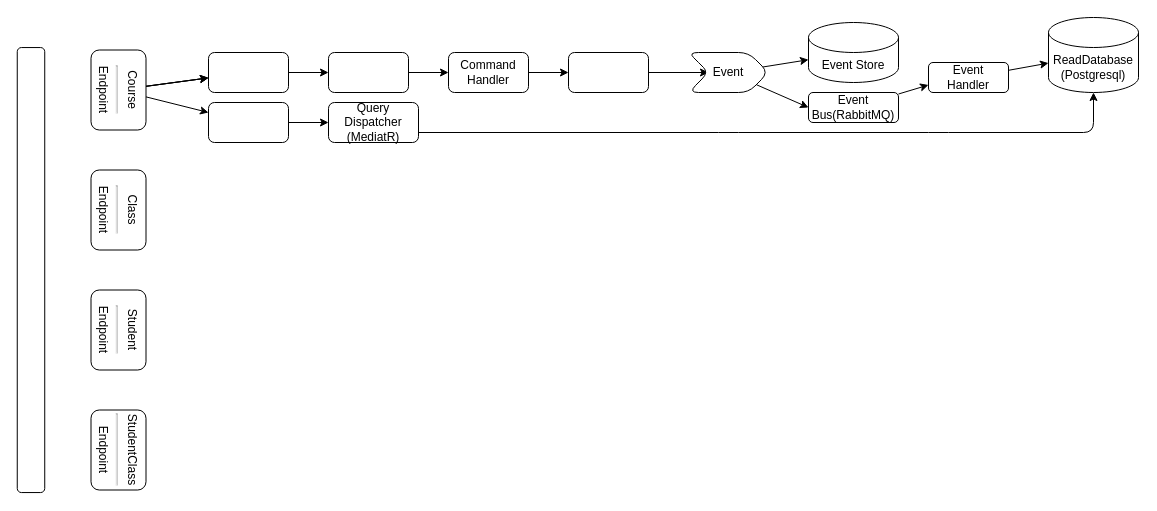
The diagram is 1157 pixels wide and 511 high, and some of its shapes have lost their labels. Each missing label, with the centre of its shape:
"Command" goes at point (248, 72).
"Command Bus(Redis)" goes at point (368, 72).
"Domain Model" goes at point (608, 72).
"Gateway" goes at point (30, 270).
"Query" goes at point (248, 122).
